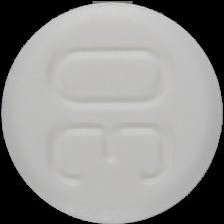0093-2047: (0, 0, 224, 224)
